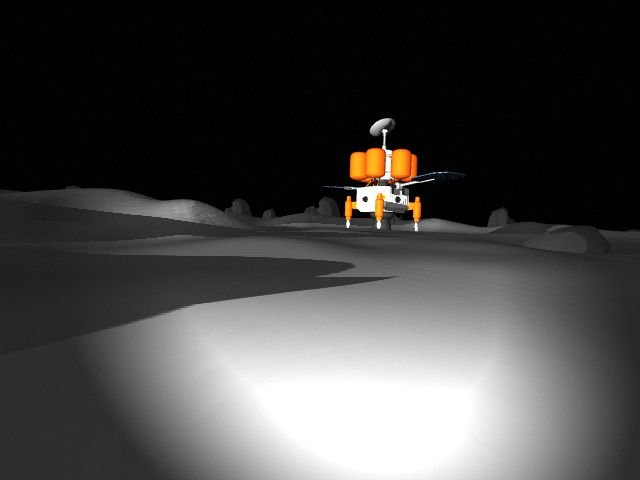homebase: (305, 116, 465, 233)
